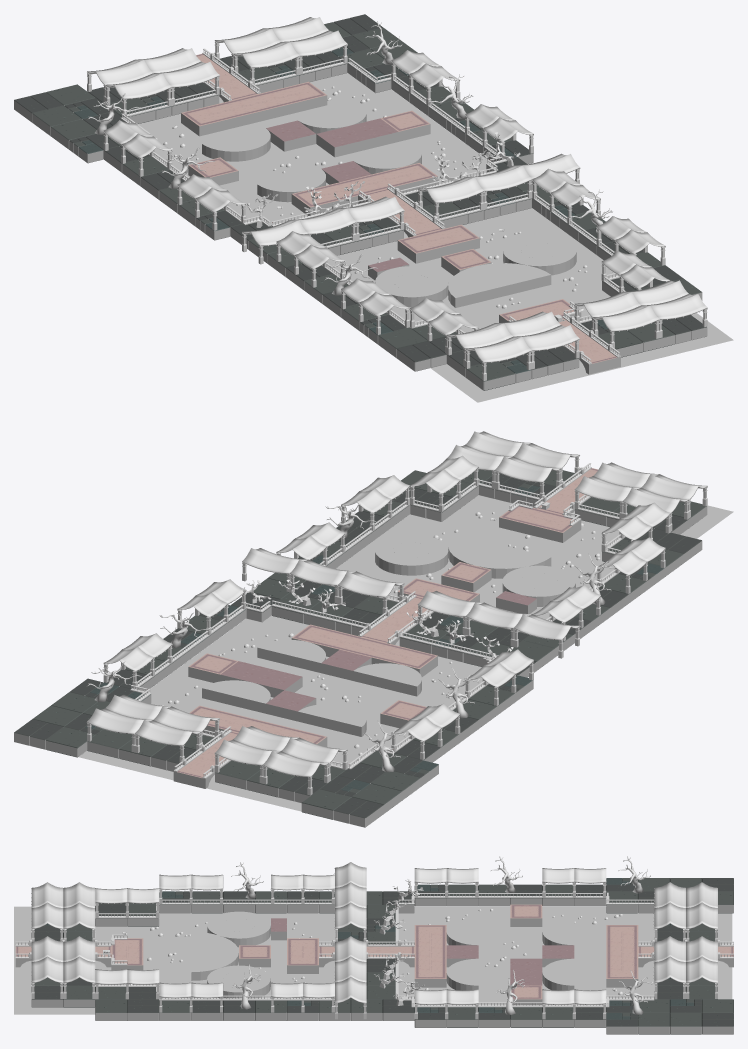
The model's file is lvl15_world1.fbx.
The picture shows the model from 3 angles, top to bottom: view 1: azimuth 30°, elevation 25°; view 2: azimuth 150°, elevation 25°; view 3: azimuth 270°, elevation 25°; orthographic projection. The views are drawn at different scales.
Parts seen in each view (by area): view 1: Cube.2244, Cube.2223, Plane.121, Cube.2237, tree1.004, Cube.2178, round.003, Cube.2171, Cube.2176, Cube.2156, Cylinder.058, Cylinder.001 (+14 smaller); view 2: Cube.2223, Cube.2244, Plane.121, Cube.2237, tree1.004, Cube.2171, round.003, Cylinder.058, Cube.2151, Cube.2178, round_small.001, round_small.004 (+15 smaller); view 3: Cube.2223, Cube.2244, Plane.121, Cube.2237, tree1.004, Cube.2171, Cube.2178, round.003, Cylinder.001, Cylinder.058, Cube.2156, Cube.2151 (+18 smaller).
Part boxes in pixels (bbox=[...]): Cube.2244: bbox=[87, 17, 707, 380]; Cube.2223: bbox=[14, 14, 707, 390]; Plane.121: bbox=[138, 73, 733, 402]; Cube.2237: bbox=[120, 58, 625, 333]; tree1.004: bbox=[87, 21, 612, 295]; Cube.2178: bbox=[181, 81, 327, 136]; round.003: bbox=[448, 263, 551, 307]; Cube.2171: bbox=[291, 163, 437, 215]; Cube.2176: bbox=[316, 118, 398, 157]; Cube.2156: bbox=[397, 224, 479, 263]; Cylinder.058: bbox=[503, 235, 576, 275]; Cylinder.001: bbox=[375, 266, 448, 307]; Cube.2223: bbox=[14, 469, 707, 827]; Cube.2244: bbox=[87, 431, 707, 795]; Plane.121: bbox=[78, 470, 733, 811]; Cube.2237: bbox=[130, 479, 625, 769]; tree1.004: bbox=[87, 504, 616, 772]; Cube.2171: bbox=[291, 624, 437, 676]; round.003: bbox=[448, 534, 551, 578]; Cylinder.058: bbox=[375, 534, 448, 575]; Cube.2151: bbox=[499, 506, 581, 542]; Cube.2178: bbox=[189, 705, 327, 746]; round_small.001: bbox=[353, 663, 421, 696]; round_small.004: bbox=[298, 703, 366, 736]; Cube.2223: bbox=[31, 878, 733, 1034]; Cube.2244: bbox=[31, 862, 717, 1019]; Plane.121: bbox=[14, 906, 732, 1014]; Cube.2237: bbox=[92, 892, 657, 1007]; tree1.004: bbox=[231, 856, 652, 1014]; Cube.2171: bbox=[414, 925, 446, 987]; Cube.2178: bbox=[606, 925, 638, 987]; round.003: bbox=[191, 931, 238, 980]; Cylinder.001: bbox=[207, 911, 270, 947]; Cylinder.058: bbox=[207, 965, 270, 998]; Cube.2156: bbox=[287, 938, 318, 973]; Cube.2151: bbox=[111, 938, 143, 970].
Size of the model in its own units: 22000 by 3364 by 45100.
